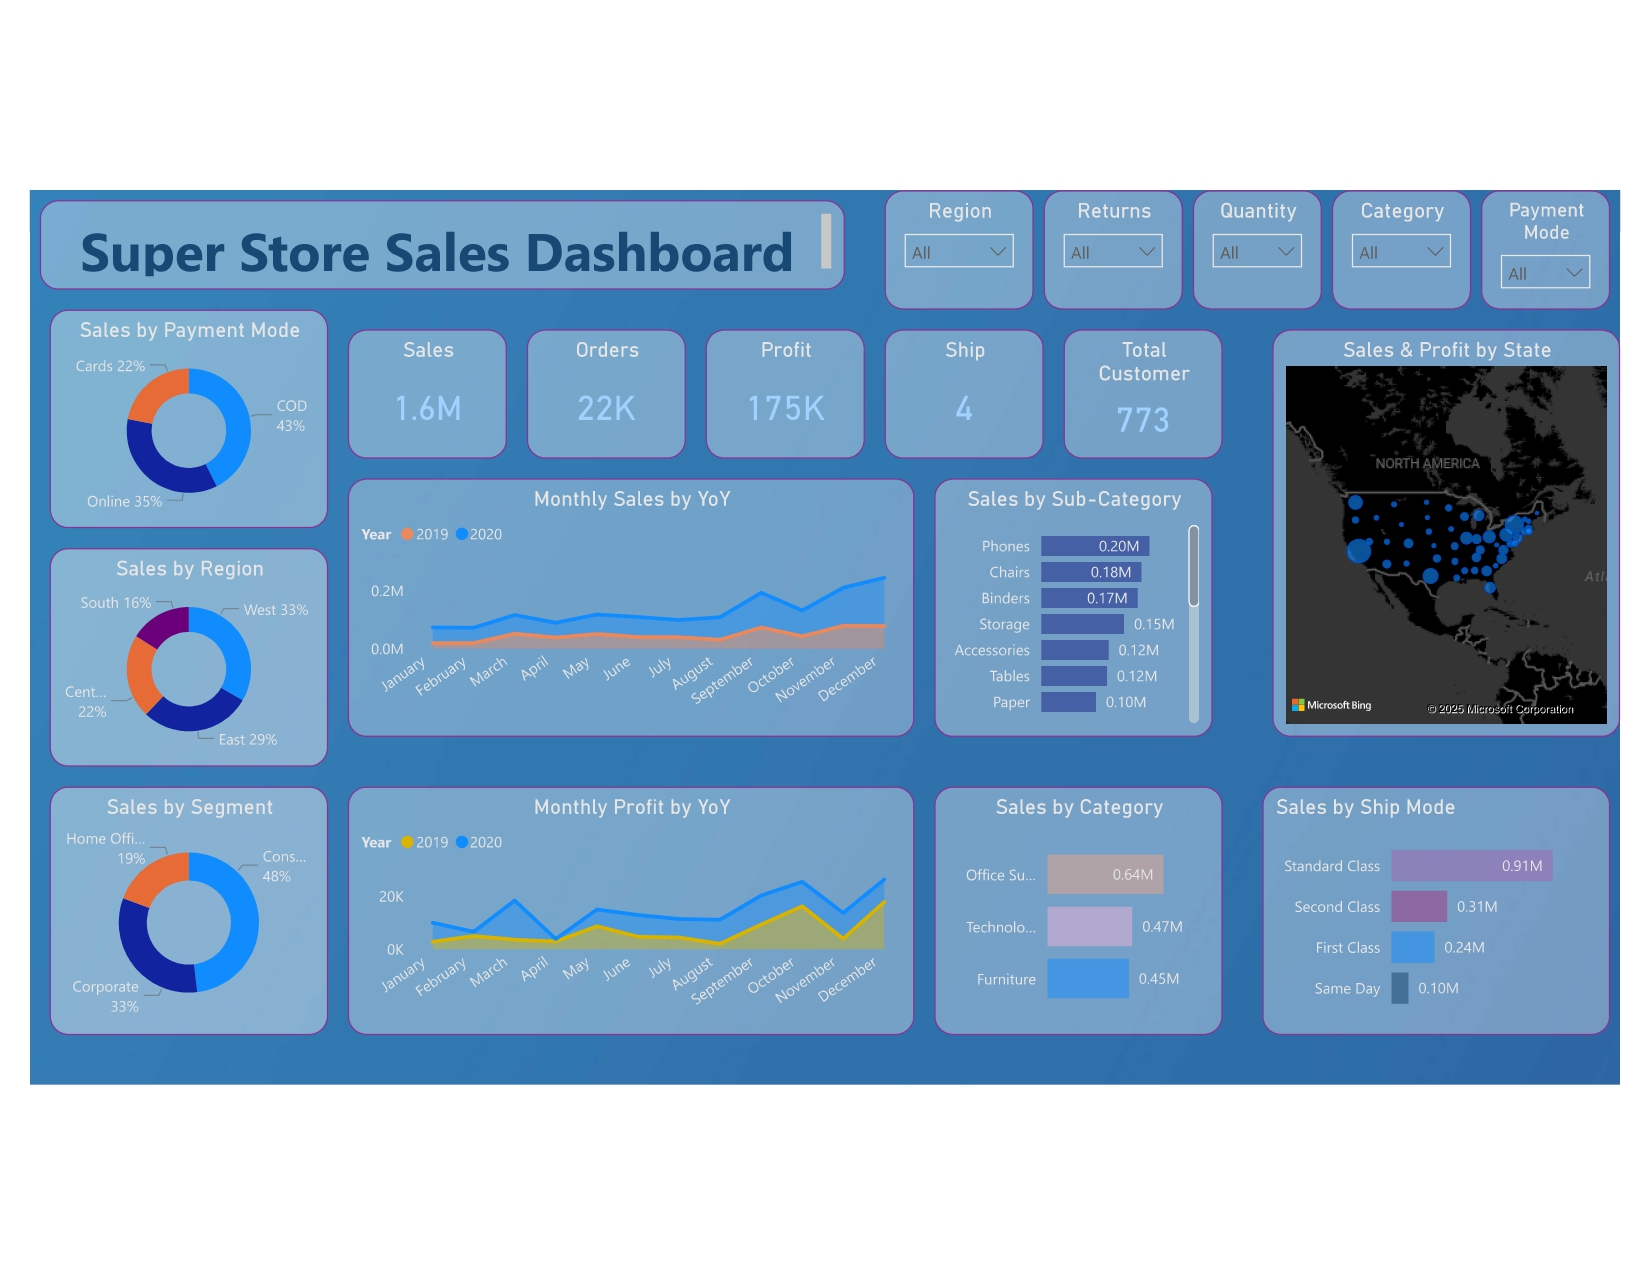

This screenshot's page, from the dashboard's own definition file:
{"tool":"powerbi","page":{"name":"Dashboard","canvas":[1280,720],"ordinal":0},"visuals":[{"type":"clusteredBarChart","title":"Sales by Category","fields":{"Category":["SuperStore_Sales_Dataset.Category"],"Y":["Sum(SuperStore_Sales_Dataset.Sales)"]},"box":[728,480,232,200],"z":0},{"type":"clusteredBarChart","title":"Sales by Sub-Category","fields":{"Category":["SuperStore_Sales_Dataset.Sub-Category"],"Y":["Sum(SuperStore_Sales_Dataset.Sales)"]},"box":[728,232,224,208],"z":1000},{"type":"clusteredBarChart","title":"Sales by Ship Mode","fields":{"Category":["SuperStore_Sales_Dataset.Ship Mode"],"Y":["Sum(SuperStore_Sales_Dataset.Sales)"]},"box":[992,480,280,200],"z":2000},{"type":"stackedAreaChart","title":"Monthly Sales by YoY","fields":{"Y":["Sum(SuperStore_Sales_Dataset.Sales)"],"Category":["SuperStore_Sales_Dataset.Order Date.Variation.Date Hierarchy.Month","SuperStore_Sales_Dataset.Order Date.Variation.Date Hierarchy.Day"],"Series":["SuperStore_Sales_Dataset.Order Date.Variation.Date Hierarchy.Year"]},"box":[256,232,456,208],"z":3000},{"type":"stackedAreaChart","title":"Monthly Profit by YoY","fields":{"Category":["SuperStore_Sales_Dataset.Order Date.Variation.Date Hierarchy.Month","SuperStore_Sales_Dataset.Order Date.Variation.Date Hierarchy.Day"],"Series":["SuperStore_Sales_Dataset.Order Date.Variation.Date Hierarchy.Year"],"Y":["Sum(SuperStore_Sales_Dataset.Profit)"]},"box":[256,480,456,200],"z":4000},{"type":"map","title":"Sales & Profit by State","fields":{"Category":["SuperStore_Sales_Dataset.State"],"Size":["Sum(SuperStore_Sales_Dataset.Sales)"]},"box":[1000,112,280,328],"z":5000},{"type":"donutChart","title":" Sales by Segment","fields":{"Category":["SuperStore_Sales_Dataset.Segment"],"Y":["Sum(SuperStore_Sales_Dataset.Sales)"]},"box":[16,480,224,200],"z":6000},{"type":"donutChart","title":" Sales by Payment Mode","fields":{"Category":["SuperStore_Sales_Dataset.Payment Mode"],"Y":["Sum(SuperStore_Sales_Dataset.Sales)"]},"box":[16,96,224,176],"z":7000},{"type":"donutChart","title":" Sales by Region","fields":{"Category":["SuperStore_Sales_Dataset.Region"],"Y":["Sum(SuperStore_Sales_Dataset.Sales)"]},"box":[16,288,224,176],"z":8000},{"type":"slicer","title":"Region","fields":{"Values":["SuperStore_Sales_Dataset.Region"]},"box":[688,0,120,96],"z":9000},{"type":"slicer","title":"Returns","fields":{"Values":["SuperStore_Sales_Dataset.Returns"]},"box":[816,0,112,96],"z":10000},{"type":"slicer","title":"Quantity","fields":{"Values":["SuperStore_Sales_Dataset.Quantity"]},"box":[936,0,104,96],"z":11000},{"type":"slicer","title":"Category","fields":{"Values":["SuperStore_Sales_Dataset.Category"]},"box":[1048,0,112,96],"z":12000},{"type":"slicer","title":"Payment Mode","fields":{"Values":["SuperStore_Sales_Dataset.Payment Mode"]},"box":[1168,0,104,96],"z":13000},{"type":"textbox","box":[8,8,648,72],"z":14000},{"type":"card","title":"Sales","fields":{"Values":["Sum(SuperStore_Sales_Dataset.Sales)"]},"box":[256,112,128,104],"z":15000},{"type":"card","title":"Orders","fields":{"Values":["Sum(SuperStore_Sales_Dataset.Quantity)"]},"box":[400,112,128,104],"z":16000},{"type":"card","title":"Profit","fields":{"Values":["Sum(SuperStore_Sales_Dataset.Profit)"]},"box":[544,112,128,104],"z":17000},{"type":"card","title":"Ship","fields":{"Values":["Avg(SuperStore_Sales_Dataset.Avg days)"]},"box":[688,112,128,104],"z":18000},{"type":"card","title":"Total Customer","fields":{"Values":["Count(SuperStore_Sales.Customer Name)"]},"box":[832,112,128,104],"z":19000}]}

Visuals, with their boxes on the page's 1280x720 design canvas (x1, y1, x2, y2). These are canvas units, not pixel positions in the 1650x1275 screenshot, which may show the page scaled, cropped or inside an application window:
"Sales by Category" clusteredBarChart: left=728, top=480, right=960, bottom=680
"Sales by Sub-Category" clusteredBarChart: left=728, top=232, right=952, bottom=440
"Sales by Ship Mode" clusteredBarChart: left=992, top=480, right=1272, bottom=680
"Monthly Sales by YoY" stackedAreaChart: left=256, top=232, right=712, bottom=440
"Monthly Profit by YoY" stackedAreaChart: left=256, top=480, right=712, bottom=680
"Sales & Profit by State" map: left=1000, top=112, right=1280, bottom=440
" Sales by Segment" donutChart: left=16, top=480, right=240, bottom=680
" Sales by Payment Mode" donutChart: left=16, top=96, right=240, bottom=272
" Sales by Region" donutChart: left=16, top=288, right=240, bottom=464
"Region" slicer: left=688, top=0, right=808, bottom=96
"Returns" slicer: left=816, top=0, right=928, bottom=96
"Quantity" slicer: left=936, top=0, right=1040, bottom=96
"Category" slicer: left=1048, top=0, right=1160, bottom=96
"Payment Mode" slicer: left=1168, top=0, right=1272, bottom=96
textbox: left=8, top=8, right=656, bottom=80
"Sales" card: left=256, top=112, right=384, bottom=216
"Orders" card: left=400, top=112, right=528, bottom=216
"Profit" card: left=544, top=112, right=672, bottom=216
"Ship" card: left=688, top=112, right=816, bottom=216
"Total Customer" card: left=832, top=112, right=960, bottom=216
